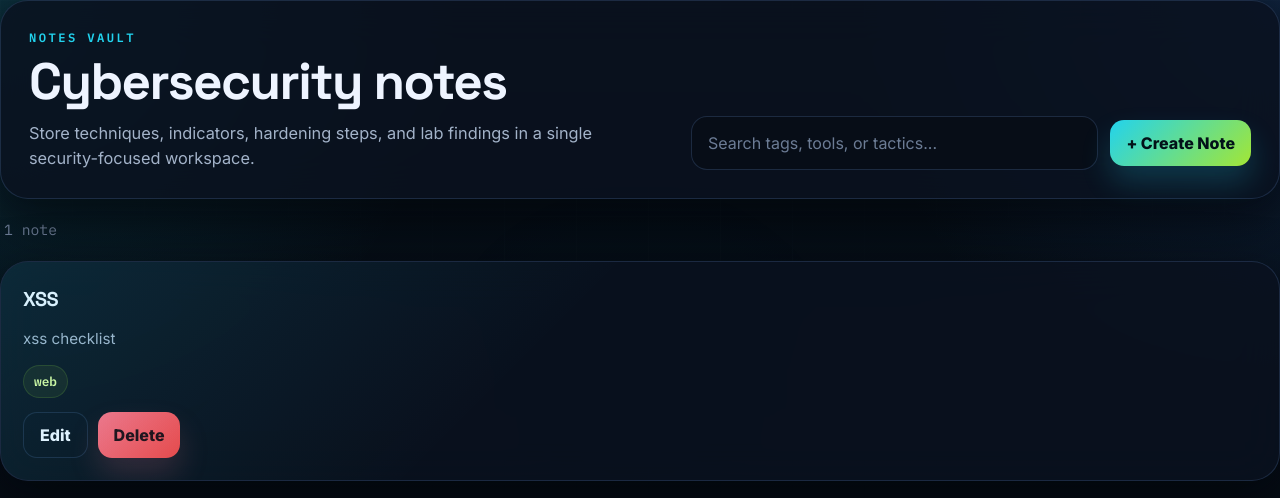
Test: NotesListPage component › deletes a note when delete is confirmed
Expected: the heading "XSS" is shown, left=23, top=284, right=58, bottom=314
Click the button "Delete": (139, 435) left=98, top=412, right=180, bottom=458
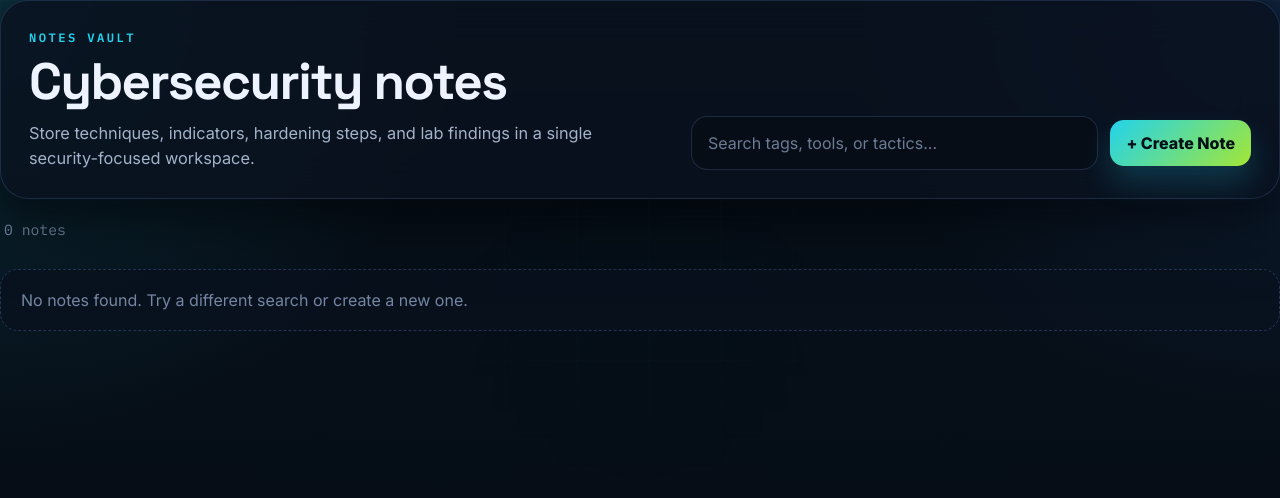
Result: the heading "XSS" is gone
